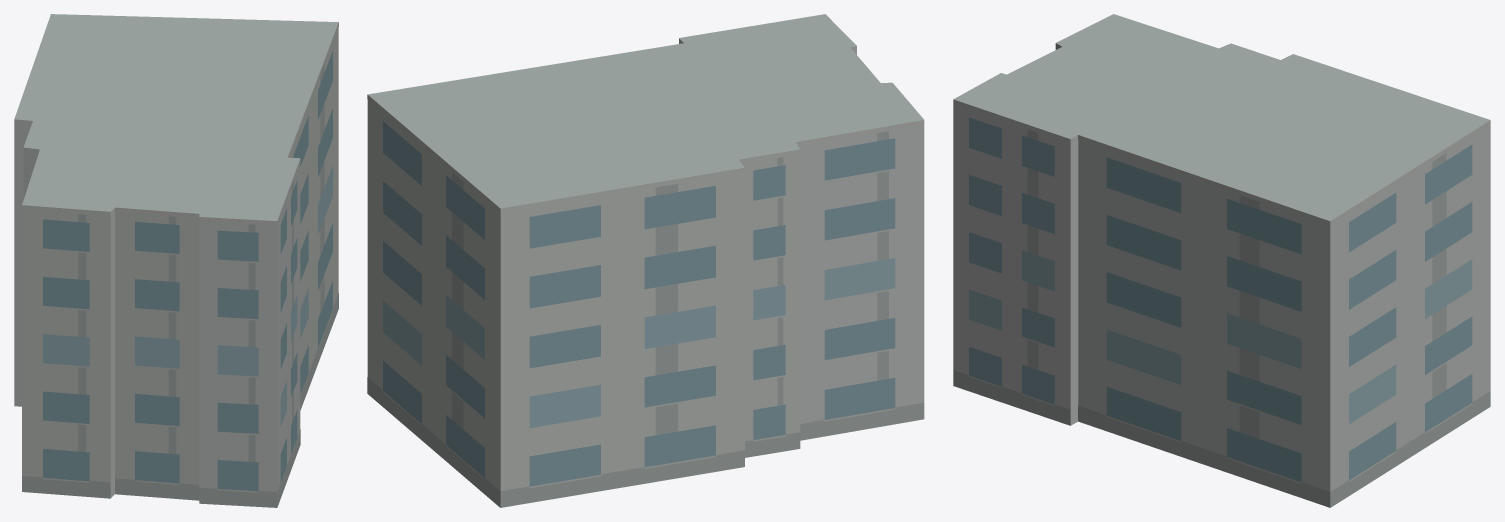
File: survey-upis-32895359.glb
3 renders of one model, left to right at view 1: azimuth 30°, elevation 25°; view 2: azimuth 150°, elevation 25°; view 3: azimuth 270°, elevation 25°, orthographic. The views are drawn at different scales.
Visible parts, largest first — view 1: survey-upis-32895359.tmp; view 2: survey-upis-32895359.tmp; view 3: survey-upis-32895359.tmp.
Boxes of the visible parts, x1=… form: survey-upis-32895359.tmp: x1=14, y1=14, x2=338, y2=507; survey-upis-32895359.tmp: x1=367, y1=14, x2=924, y2=507; survey-upis-32895359.tmp: x1=953, y1=14, x2=1490, y2=507.
Size of the model in its own units: 22.96 by 14.8 by 25.16.
